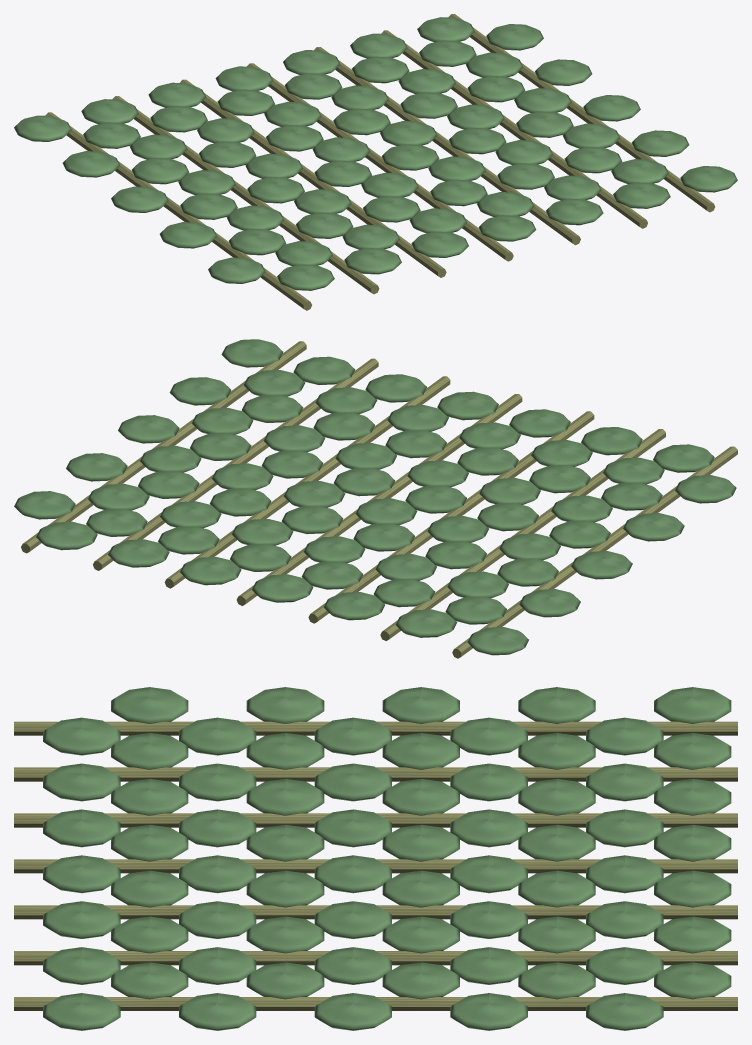
Rendered from water_fern_mat_swamp_and_mangrove_22636.glb.
The picture shows the model from 3 angles, top to bottom: view 1: azimuth 30°, elevation 25°; view 2: azimuth 150°, elevation 25°; view 3: azimuth 270°, elevation 25°; orthographic projection. The views are drawn at different scales.
Visible parts, largest first — view 1: water-fern; view 2: water-fern; view 3: water-fern.
Boxes of the visible parts, bbox=[...] form: water-fern: bbox=[14, 14, 737, 310]; water-fern: bbox=[14, 339, 737, 658]; water-fern: bbox=[14, 687, 737, 1030].
Bounding box in the file's own units: 0.89 × 0.0267 × 0.8.
Materials: 2 (2 with a texture image).
